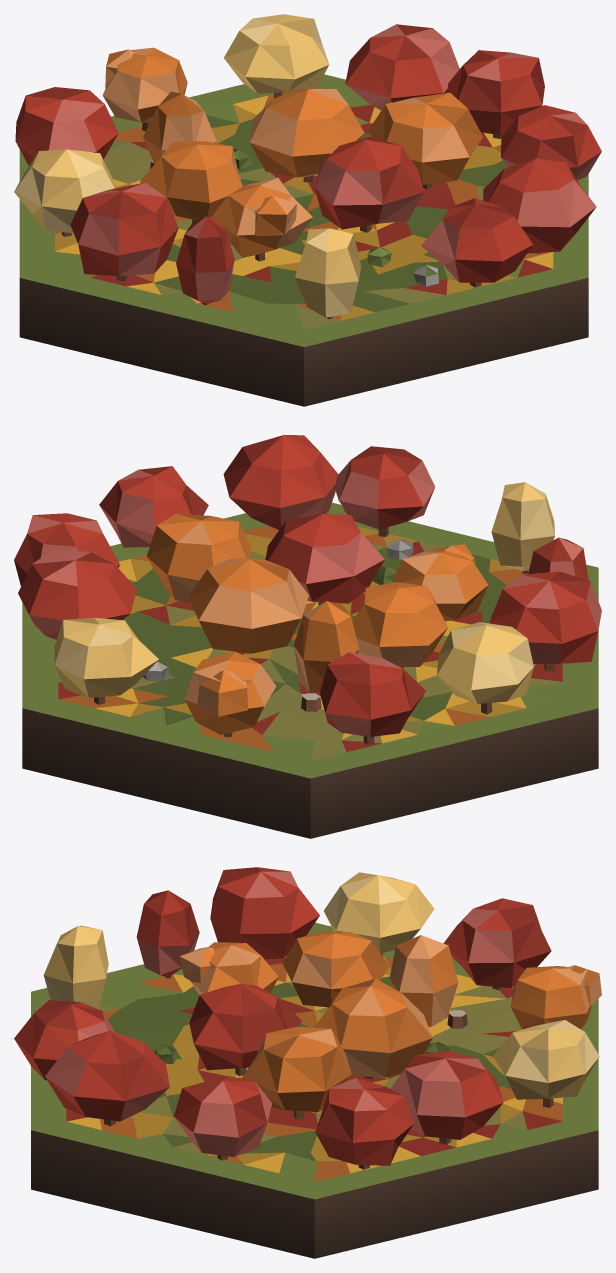
Rendered from SM_Tile_Forest_A.fbx.
3 views of the same model, one above another, from view 1: azimuth 30°, elevation 25°; view 2: azimuth 150°, elevation 25°; view 3: azimuth 270°, elevation 25° (orthographic).
Parts seen in each view (by area): view 1: SM_Tile_Forest_A; view 2: SM_Tile_Forest_A; view 3: SM_Tile_Forest_A.
Part boxes in pixels (bbox=[...]): SM_Tile_Forest_A: bbox=[14, 14, 601, 406]; SM_Tile_Forest_A: bbox=[14, 435, 601, 838]; SM_Tile_Forest_A: bbox=[14, 867, 601, 1258].
Size of the model in its own units: 20 by 5.14 by 17.94.
